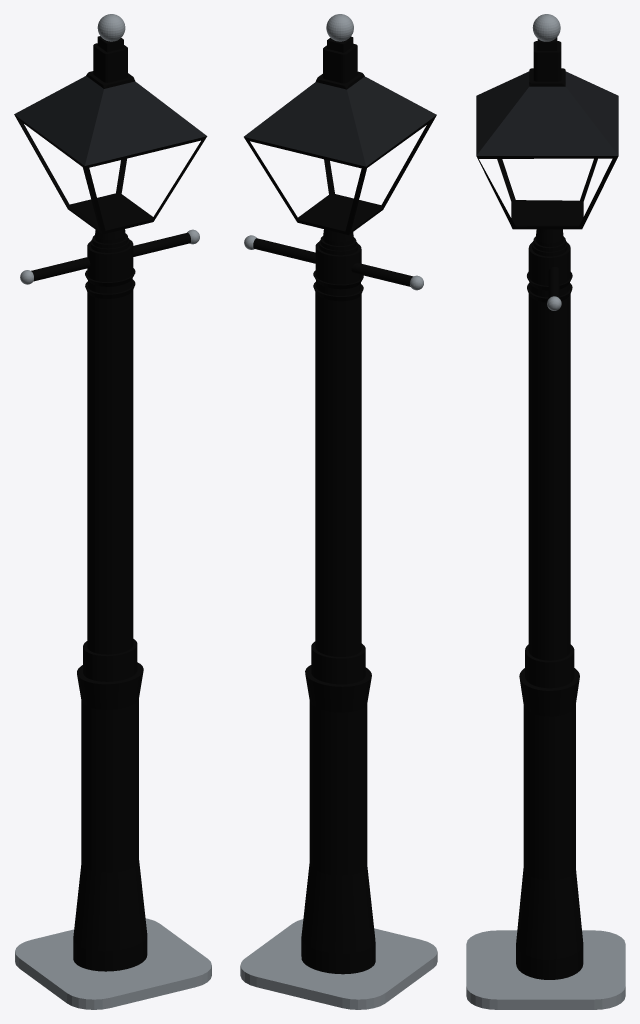
File: faro.fbx
3 views of the same model, side by side, from view 1: azimuth 30°, elevation 25°; view 2: azimuth 150°, elevation 25°; view 3: azimuth 270°, elevation 25° (orthographic).
Visible parts, largest first — view 1: Cylinder.002; view 2: Cylinder.002; view 3: Cylinder.002.
Boxes of the visible parts, x1,y1,x2,y2 form: Cylinder.002: (14,14,211,1009); Cylinder.002: (240,14,437,1009); Cylinder.002: (466,14,625,1009).
Size of the model in its own units: 210 by 1076 by 162.
